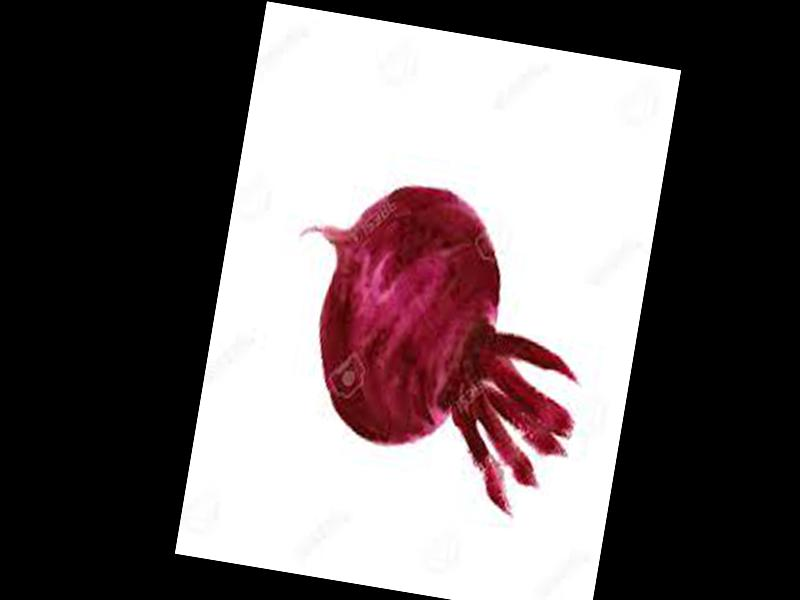Beet: (259, 165, 608, 522)
